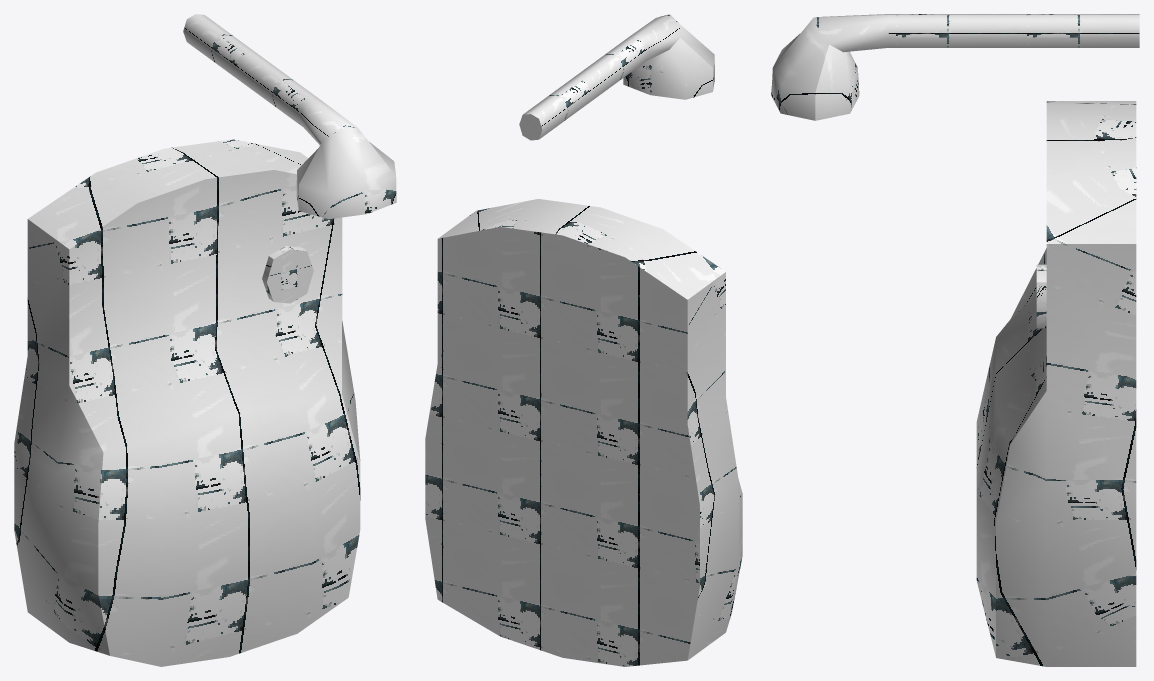
The model's file is Shower.FBX.
3 views of the same model, side by side, from view 1: azimuth 30°, elevation 25°; view 2: azimuth 150°, elevation 25°; view 3: azimuth 270°, elevation 25° (orthographic). The views are drawn at different scales.
Visible parts, largest first — view 1: Shower; view 2: Shower; view 3: Shower.
Boxes of the visible parts, box(x1,y1,x2,y2) form: Shower: box(14, 14, 396, 666); Shower: box(425, 14, 742, 666); Shower: box(771, 14, 1139, 666).
Bounding box in the file's own units: 0.8872 × 0.8788 × 1.66.
Materials: 1 (1 with a texture image).
